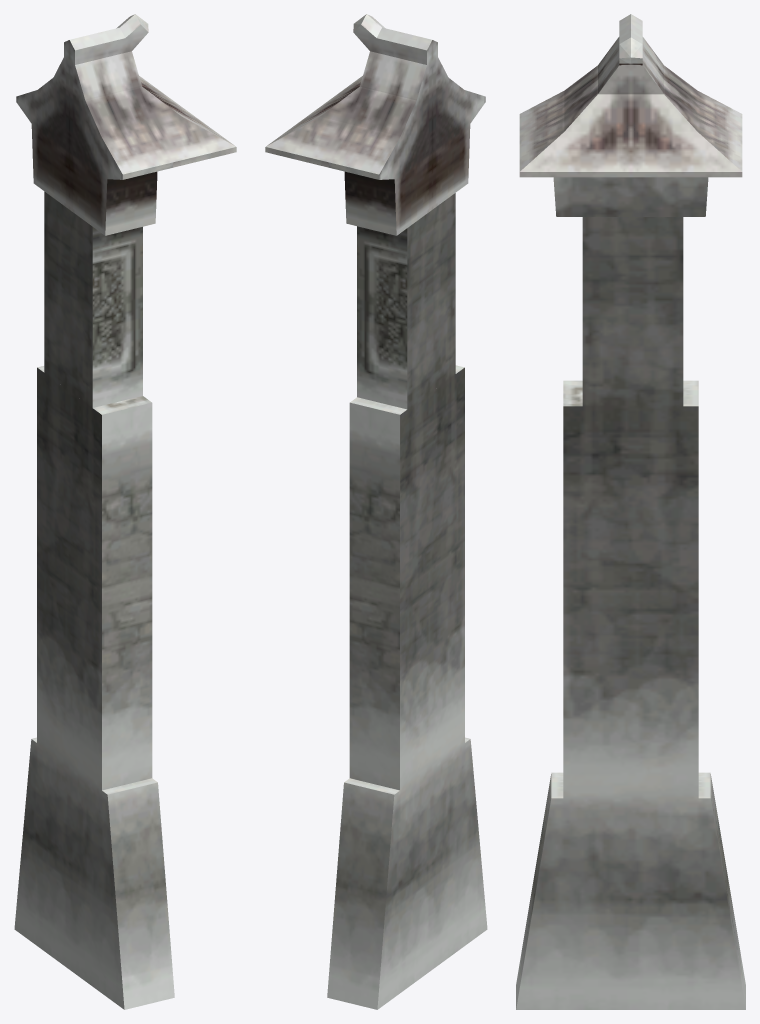
The model's file is snow-middledam-06.fbx.
3 views of the same model, side by side, from view 1: azimuth 30°, elevation 25°; view 2: azimuth 150°, elevation 25°; view 3: azimuth 270°, elevation 25° (orthographic). The views are drawn at different scales.
Visible parts, largest first — view 1: snow-middledam-02; view 2: snow-middledam-02; view 3: snow-middledam-02.
Part boxes in pixels (x1,y1,x2,y2): snow-middledam-02: [14, 14, 236, 1009]; snow-middledam-02: [265, 14, 487, 1009]; snow-middledam-02: [516, 14, 745, 1009].
Bounding box in the file's own units: 1.01 × 8.01 × 1.7.
